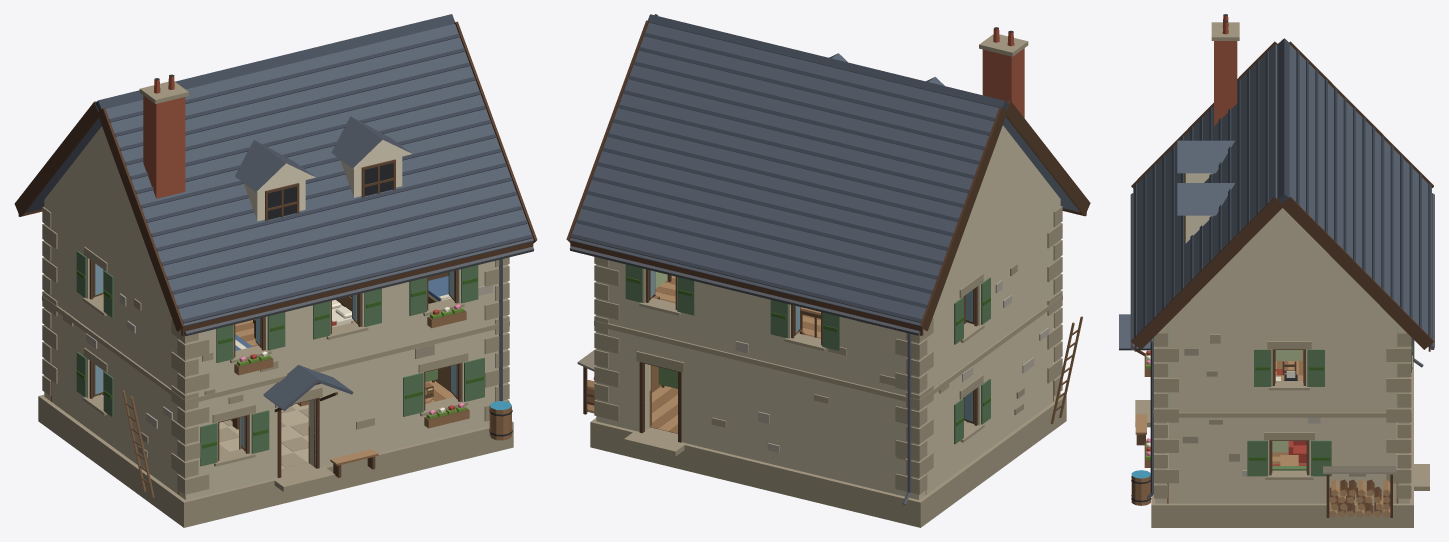
File: farmhouse.glb
The picture shows the model from 3 angles, left to right: view 1: azimuth 30°, elevation 25°; view 2: azimuth 150°, elevation 25°; view 3: azimuth 270°, elevation 25°; orthographic projection. The views are drawn at different scales.
Visible parts, largest first — view 1: LOD0; view 2: LOD0; view 3: LOD0.
Boxes of the visible parts, <box> form: LOD0: <box>14,14,537,527</box>; LOD0: <box>566,14,1090,527</box>; LOD0: <box>1119,14,1434,527</box>.
Size of what is drawn, in the model's own units: 12.01 by 12.32 by 9.42.
1 material, 1 textured.
